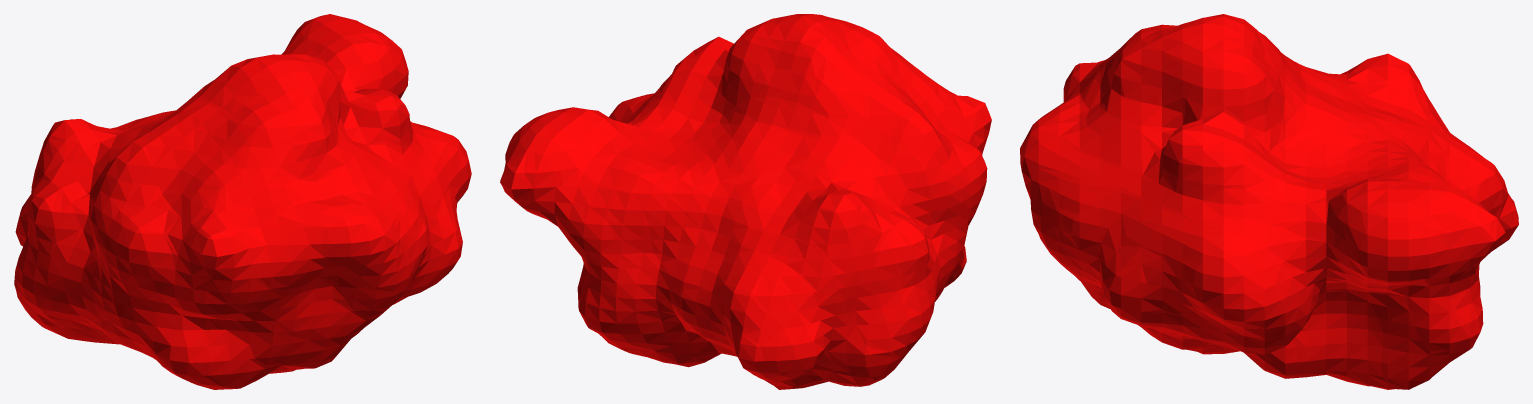
Rendered from fabF_coarse.dae.
3 views of the same model, side by side, from view 1: azimuth 30°, elevation 25°; view 2: azimuth 150°, elevation 25°; view 3: azimuth 270°, elevation 25° (orthographic). The views are drawn at different scales.
Parts seen in each view (by area): view 1: fabF; view 2: fabF; view 3: fabF.
Part boxes in pixels (x1=…): fabF: x1=14, y1=14, x2=471, y2=389; fabF: x1=500, y1=14, x2=991, y2=389; fabF: x1=1020, y1=14, x2=1518, y2=389.
Size of the model in its own units: 63.31 by 46.98 by 64.1.
